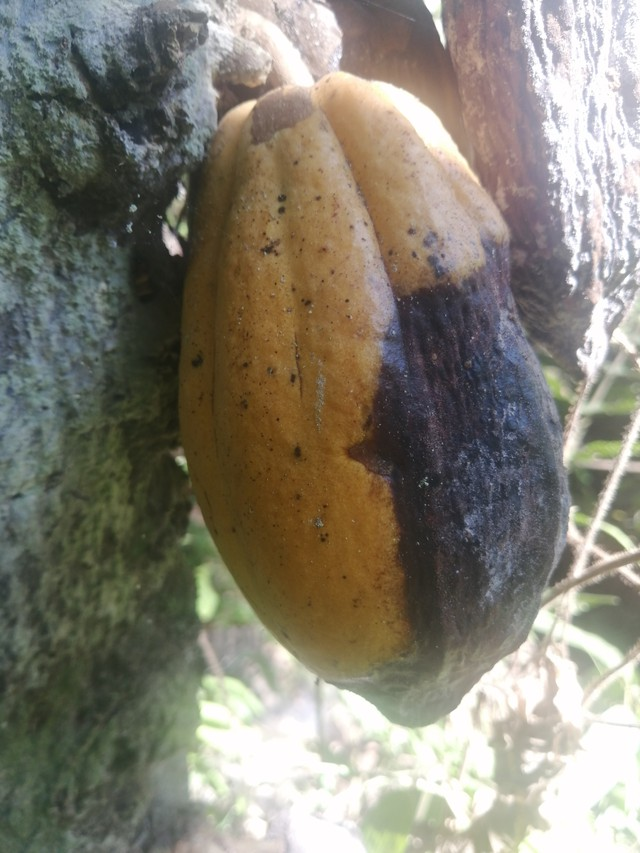moniliophthora roreri: (123, 68, 605, 734)
